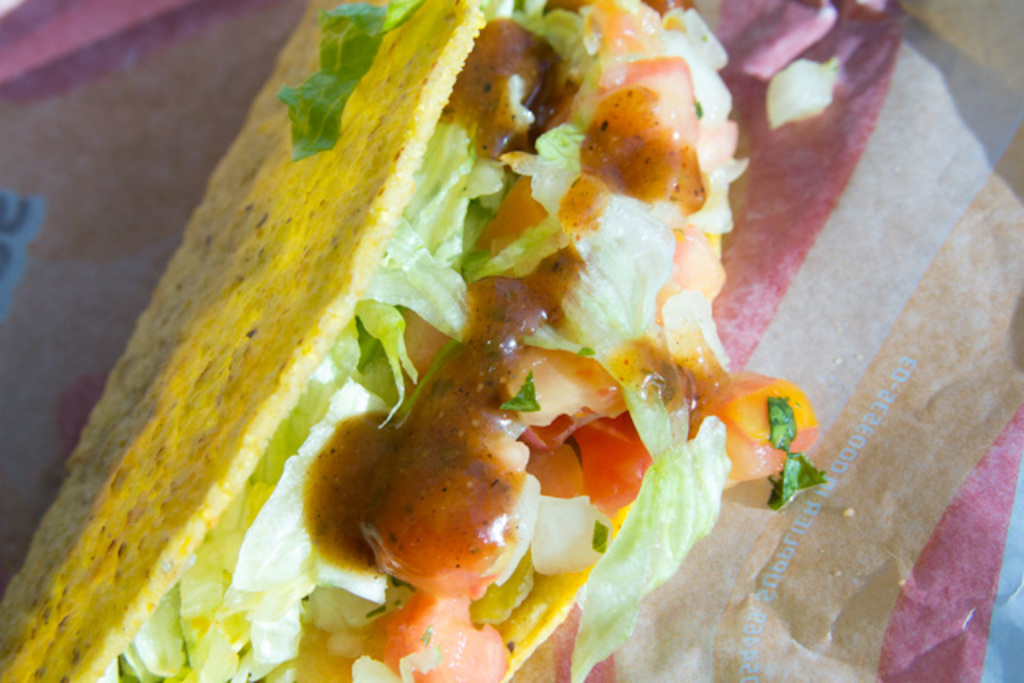taco: (0, 0, 816, 681)
